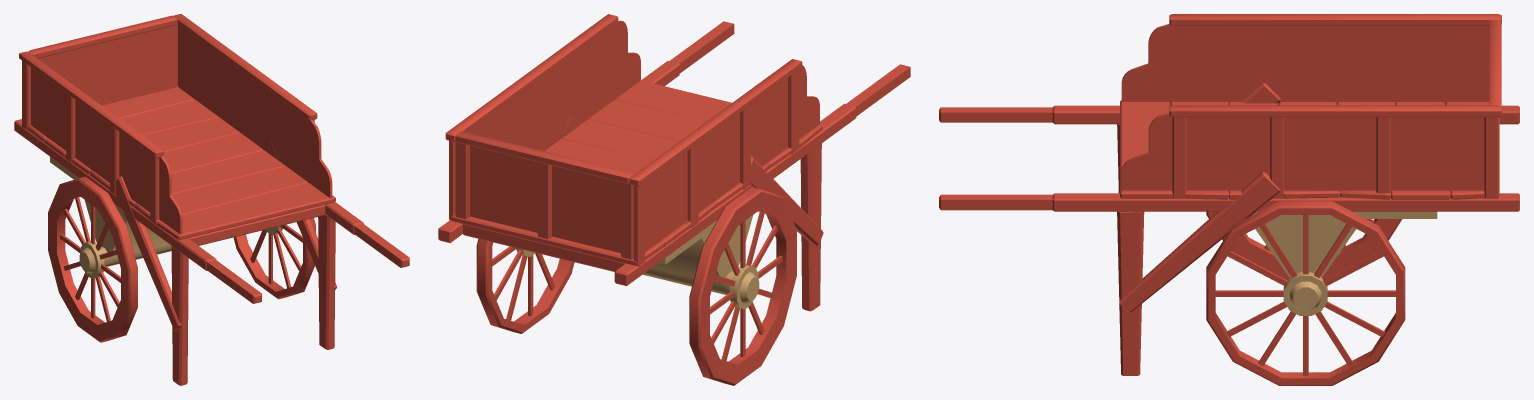
File: car_10.gltf
3 views of the same model, side by side, from view 1: azimuth 30°, elevation 25°; view 2: azimuth 150°, elevation 25°; view 3: azimuth 270°, elevation 25° (orthographic). The views are drawn at different scales.
Parts seen in each view (by area): view 1: body, wheel_2, wheel_7, wheel_0, wheel_4, wheel_3, wheel_8; view 2: body, wheel_2, wheel_7, wheel_0, wheel_4, wheel_3, wheel_8, wheel_9, wheel_10; view 3: body, wheel_5, wheel_1, wheel_11, wheel_3, wheel_9.
Boxes of the visible parts, x1,y1,x2,y2 form: body: (14, 14, 409, 385); wheel_2: (48, 180, 128, 341); wheel_7: (79, 176, 137, 341); wheel_0: (57, 196, 104, 324); wheel_4: (233, 237, 305, 297); wheel_3: (236, 234, 284, 291); wheel_8: (59, 178, 130, 342); body: (438, 14, 910, 360); wheel_2: (701, 192, 796, 384); wheel_7: (690, 187, 759, 384); wheel_0: (728, 211, 786, 364); wheel_4: (488, 241, 574, 332); wheel_3: (514, 258, 571, 324); wheel_8: (698, 189, 783, 385); wheel_9: (477, 239, 516, 332); wheel_10: (485, 241, 542, 333); body: (939, 14, 1519, 375); wheel_5: (1208, 208, 1403, 384); wheel_1: (1208, 211, 1400, 279); wheel_11: (1206, 205, 1405, 385); wheel_3: (1215, 313, 1395, 378); wheel_9: (1206, 201, 1405, 270).
Bounding box in the file's own units: 1.17 × 1.27 × 2.49.
1 material, 1 textured.
